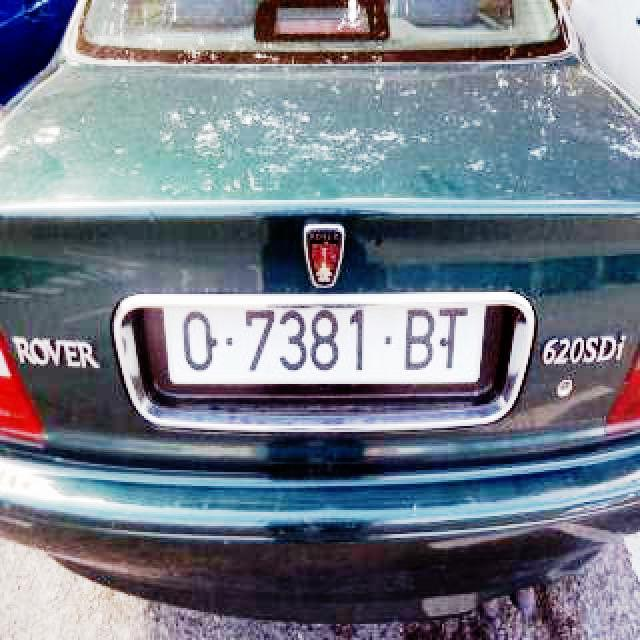license_plate: (162, 302, 486, 385)
